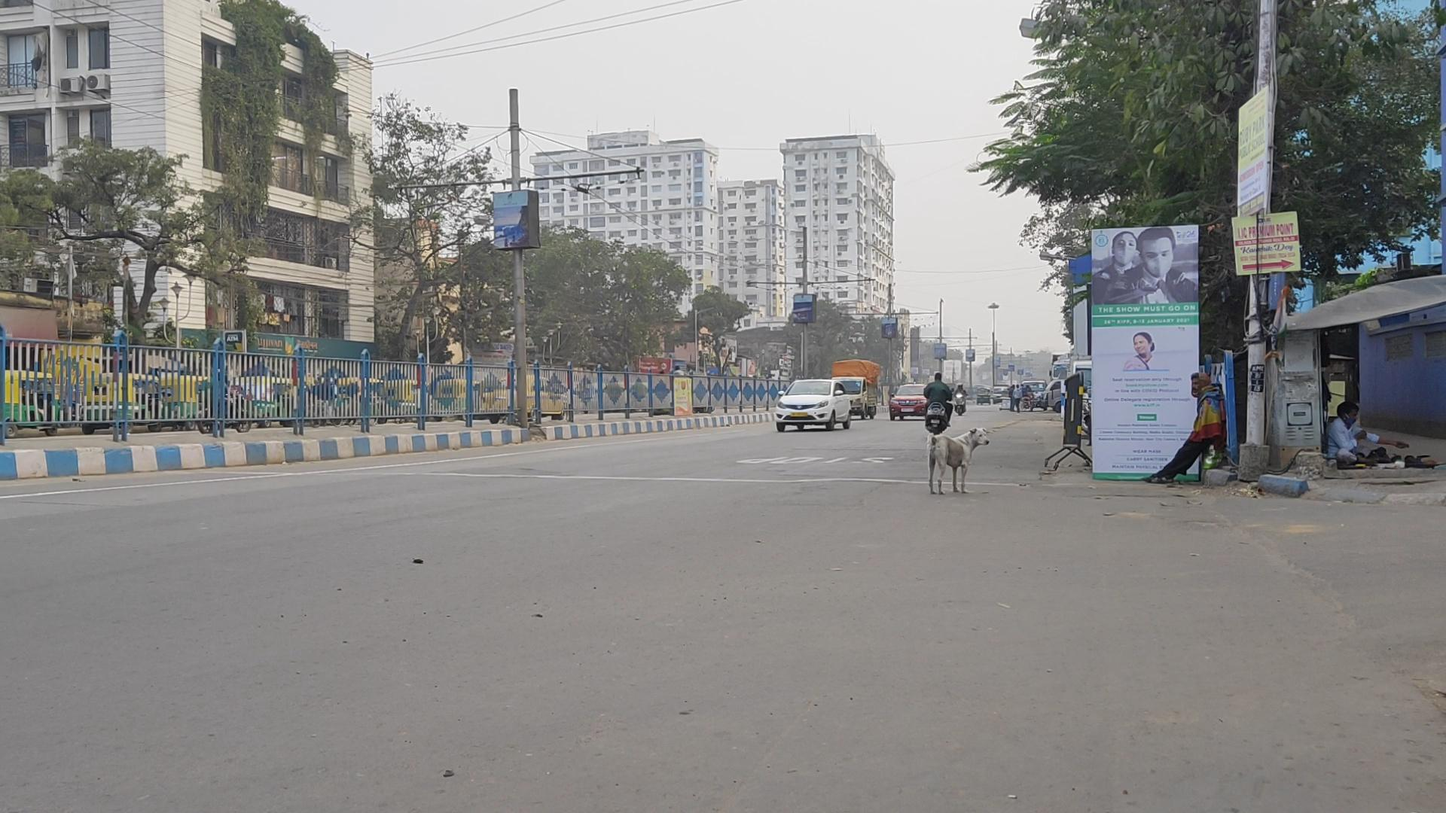Auto: (976, 387, 991, 406)
bike: (923, 373, 955, 437), (953, 382, 969, 416)
car: (774, 379, 851, 433), (889, 382, 935, 422)
van: (830, 360, 883, 420)
